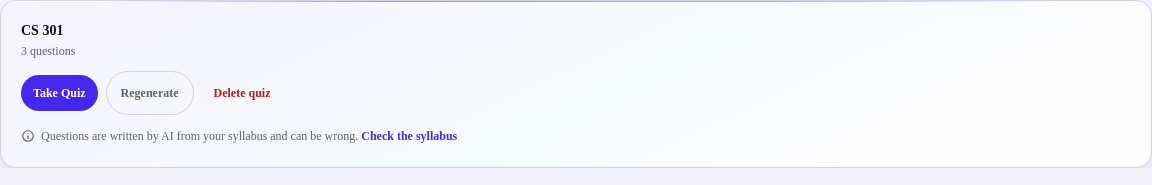
Test: QuizCard with a quiz › deletes the quiz on confirm and says so
Click the button "Delete quiz" at (242, 93), box [202,75,282,111]
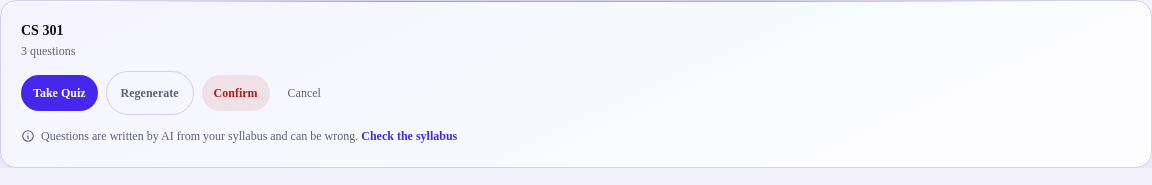
Click the button "Confirm" at (236, 93), box [202,75,270,111]
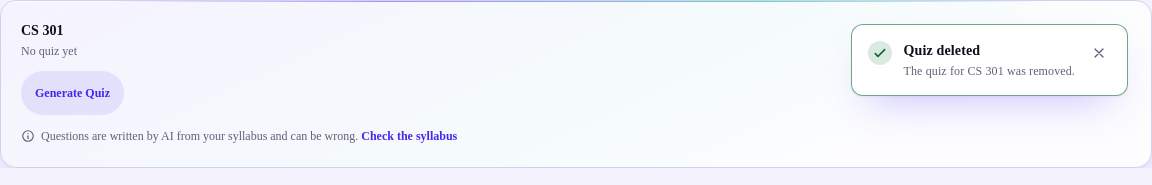
Now the heading "Quiz deleted" is shown, box [904,43,980,58]
Now the text "The quiz for CS 301 was removed." is shown, box [904,63,1075,79]
Now the text "No quiz yet" is shown, box [21,43,77,59]
